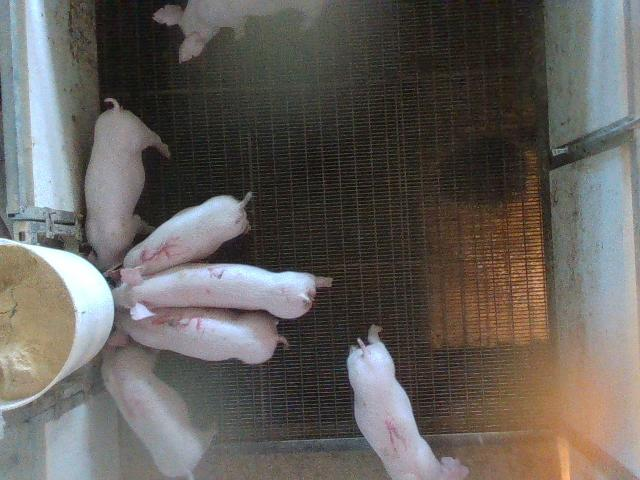pig-1: (348, 325, 469, 479)
pig-3: (108, 308, 286, 364)
pig-4: (101, 342, 215, 478)
pig-5: (124, 192, 252, 276)
